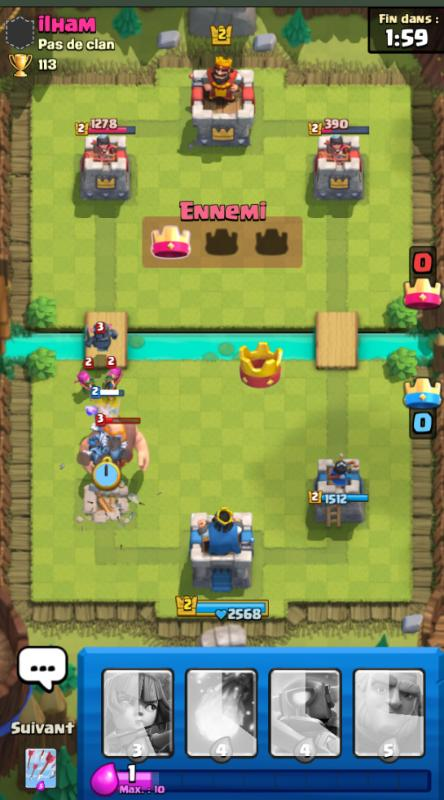archere: (102, 367, 127, 396), (76, 370, 99, 400)
gargouille: (92, 423, 117, 451), (84, 443, 109, 467), (106, 438, 129, 462)
geant: (81, 418, 150, 481)
mini_PEKKA: (84, 316, 119, 355)
